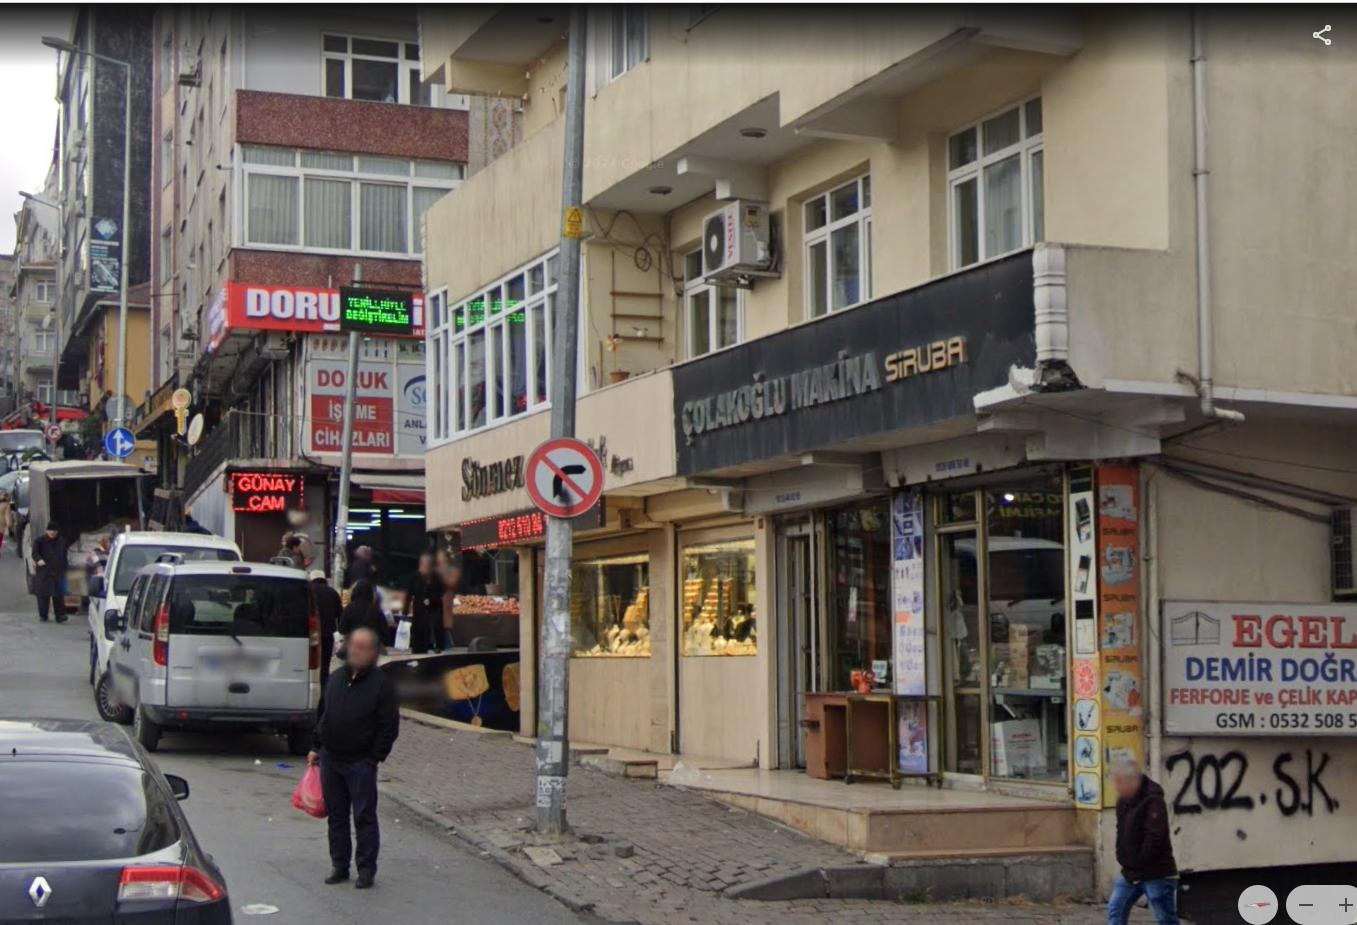rightturnsareforbidden: (533, 440, 598, 514)
